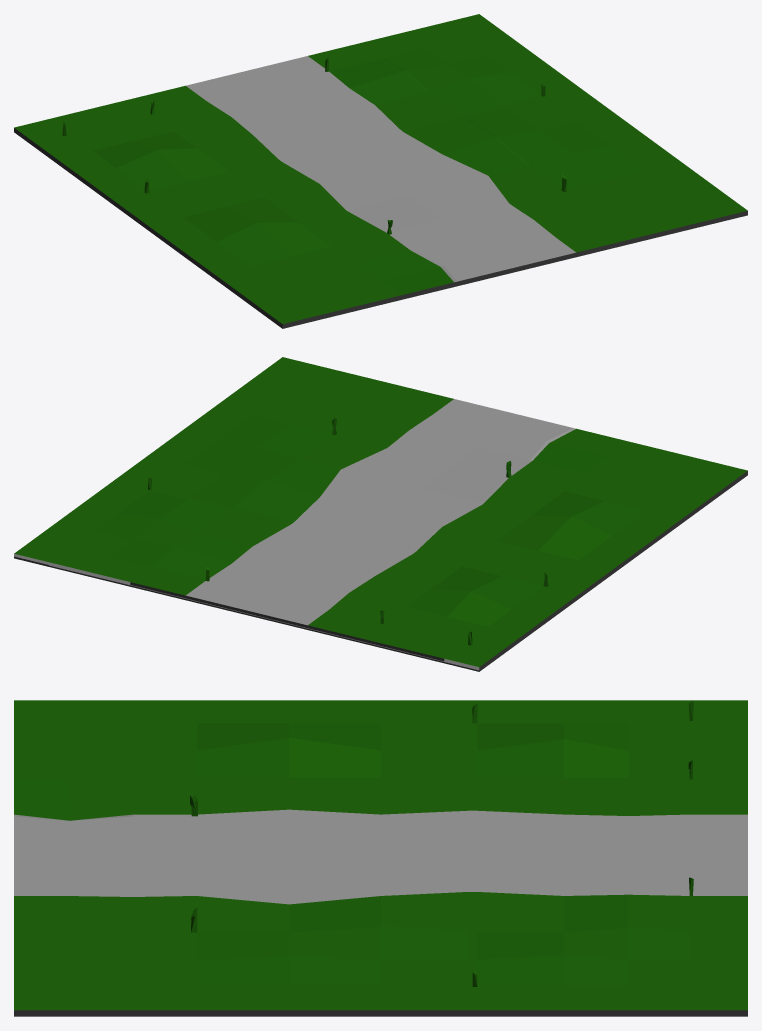
Rendered from straight_lane_map.fbx.
3 renders of one model, top to bottom at view 1: azimuth 30°, elevation 25°; view 2: azimuth 150°, elevation 25°; view 3: azimuth 270°, elevation 25°, orthographic. The views are drawn at different scales.
Parts seen in each view (by area): view 1: Cube; view 2: Cube; view 3: Cube.
Boxes of the visible parts, bbox=[...] form: Cube: bbox=[14, 14, 747, 328]; Cube: bbox=[14, 357, 747, 671]; Cube: bbox=[14, 700, 747, 1016].
Bounding box in the file's own units: 40 × 1.8 × 40.
